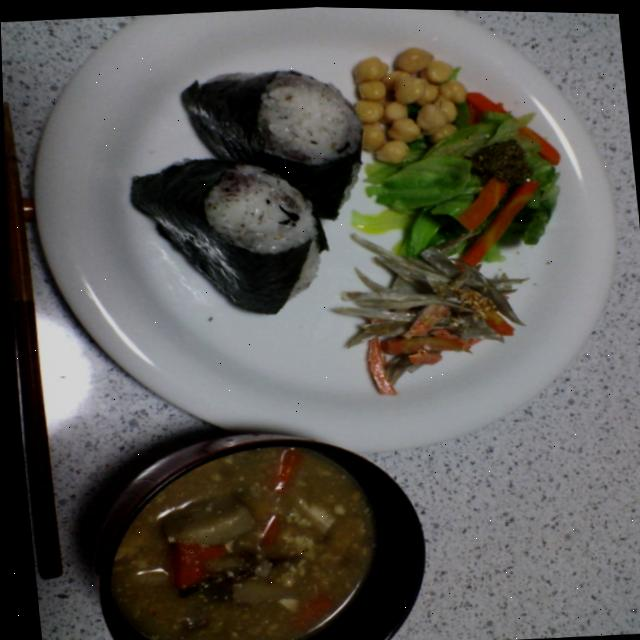米饭主食: (90, 26, 392, 397)
蔬菜料理: (82, 418, 423, 640)
